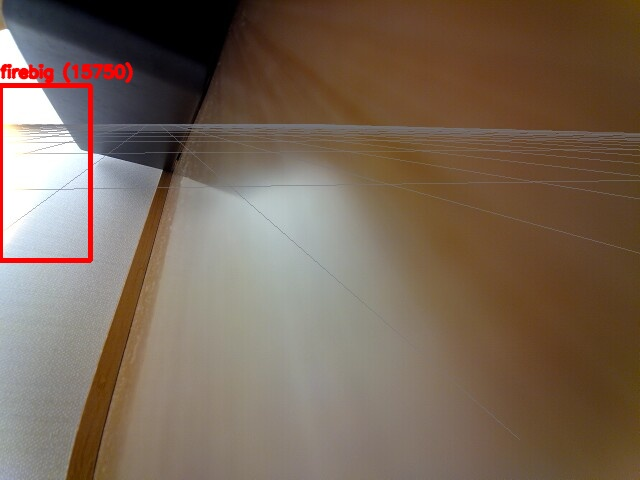firebig: (0, 85, 90, 260)
